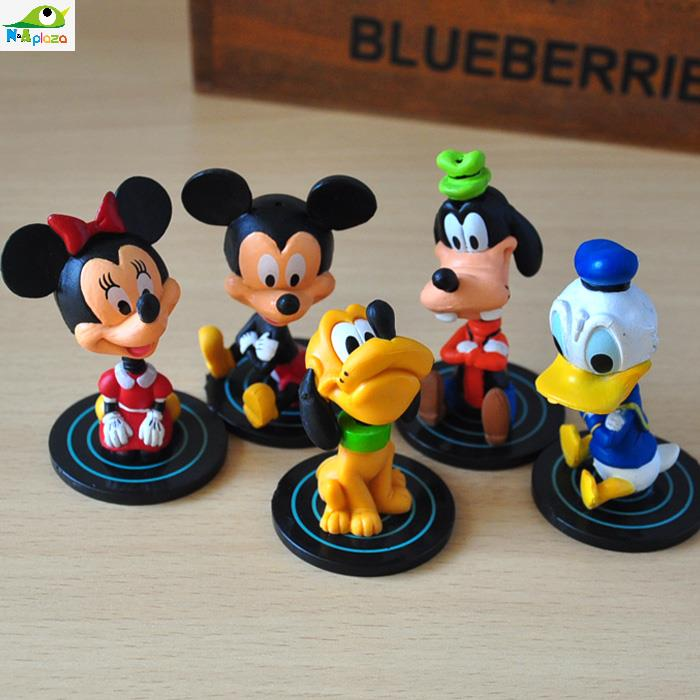Mickey: (181, 163, 378, 325)
